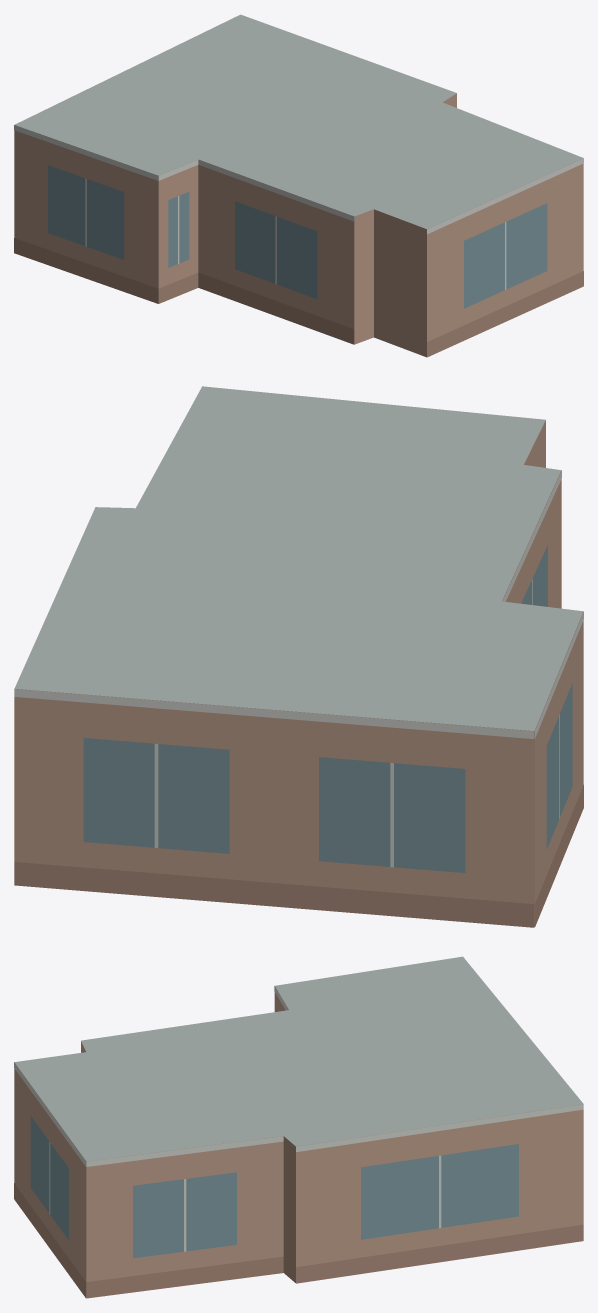
The model's file is survey-upis-32970761.glb.
3 renders of one model, top to bottom at view 1: azimuth 30°, elevation 25°; view 2: azimuth 150°, elevation 25°; view 3: azimuth 270°, elevation 25°, orthographic. The views are drawn at different scales.
Visible parts, largest first — view 1: survey-upis-32970761.tmp; view 2: survey-upis-32970761.tmp; view 3: survey-upis-32970761.tmp.
Boxes of the visible parts, x1,y1,x2,y2 form: survey-upis-32970761.tmp: (14,14,583,357); survey-upis-32970761.tmp: (14,386,583,927); survey-upis-32970761.tmp: (14,956,583,1298).
Bounding box in the file's own units: 9.8 × 3.05 × 11.51.
